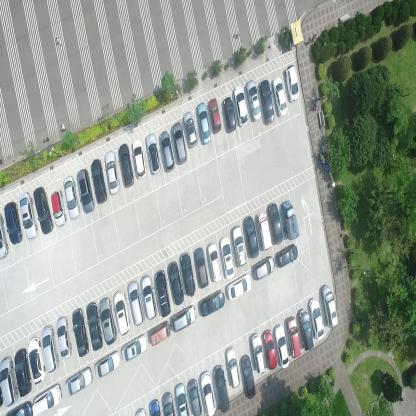car: (32, 186, 54, 233), (26, 335, 46, 386), (0, 354, 20, 405), (32, 382, 62, 415), (64, 364, 92, 398), (70, 308, 89, 358), (18, 193, 38, 240), (212, 363, 231, 412), (98, 297, 117, 345), (41, 326, 60, 374), (13, 349, 32, 397), (76, 167, 95, 213), (154, 269, 172, 317), (112, 288, 130, 336), (4, 202, 24, 243), (62, 175, 80, 220), (178, 251, 196, 296), (121, 333, 148, 363), (320, 283, 338, 328), (94, 349, 120, 380), (117, 141, 134, 188), (103, 150, 120, 197), (90, 157, 107, 204), (274, 321, 290, 370), (258, 78, 275, 124), (127, 279, 144, 325), (199, 370, 216, 416), (172, 302, 198, 332), (86, 302, 102, 350), (171, 120, 188, 165), (219, 234, 236, 279), (56, 315, 73, 360), (199, 288, 224, 318), (282, 199, 300, 240), (168, 260, 184, 306), (140, 272, 156, 318), (308, 296, 324, 342), (226, 272, 251, 301), (267, 200, 283, 245), (225, 342, 240, 390), (144, 132, 161, 174), (233, 83, 249, 127), (196, 101, 212, 145), (243, 214, 259, 258), (231, 223, 247, 267), (298, 308, 314, 352), (245, 78, 261, 121), (50, 189, 68, 227), (241, 354, 256, 399), (158, 129, 174, 171), (131, 138, 147, 180), (250, 330, 265, 374), (272, 77, 288, 118), (286, 317, 302, 358), (257, 209, 272, 252), (194, 245, 209, 288), (263, 328, 278, 370), (208, 241, 223, 282), (186, 377, 202, 415), (285, 63, 300, 103), (148, 320, 170, 347), (182, 111, 198, 147), (252, 255, 274, 281), (223, 94, 237, 134), (208, 97, 222, 134), (174, 381, 189, 415), (276, 244, 298, 267), (6, 398, 32, 416), (0, 212, 9, 259), (161, 391, 175, 416), (148, 400, 161, 415)
